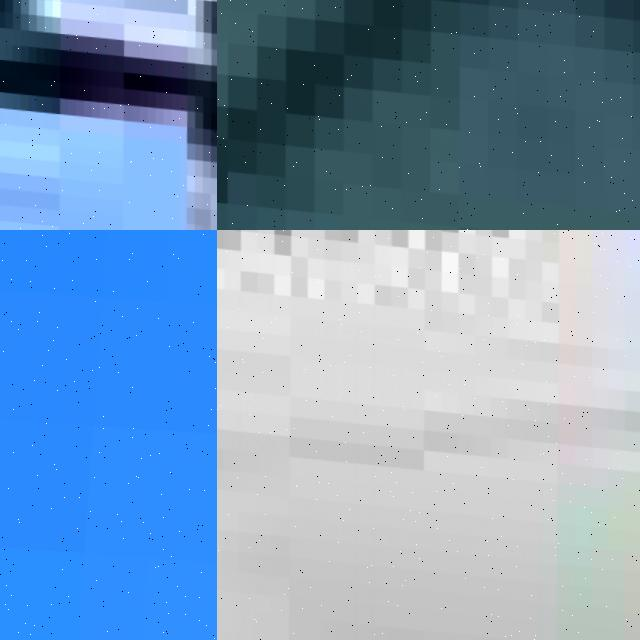drone: (217, 230, 640, 640), (217, 0, 640, 230), (0, 0, 217, 230)
